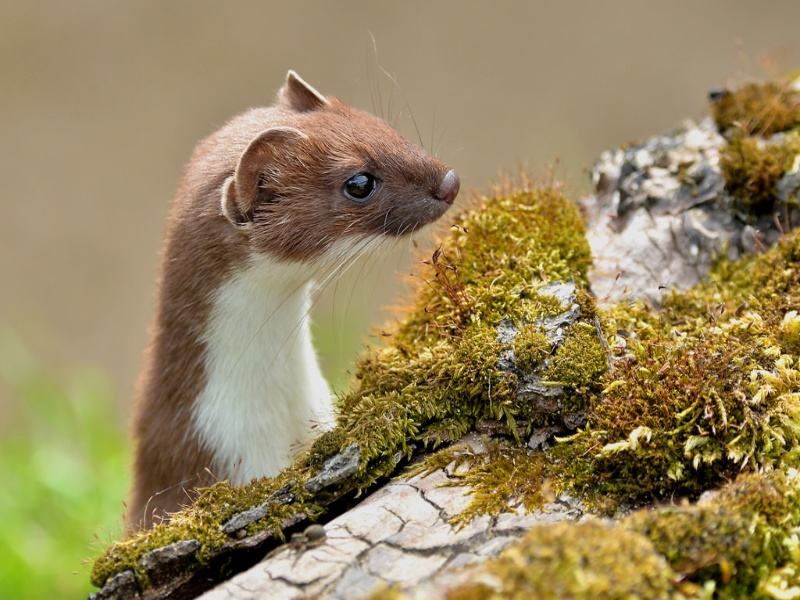minkish: (112, 69, 475, 554)
